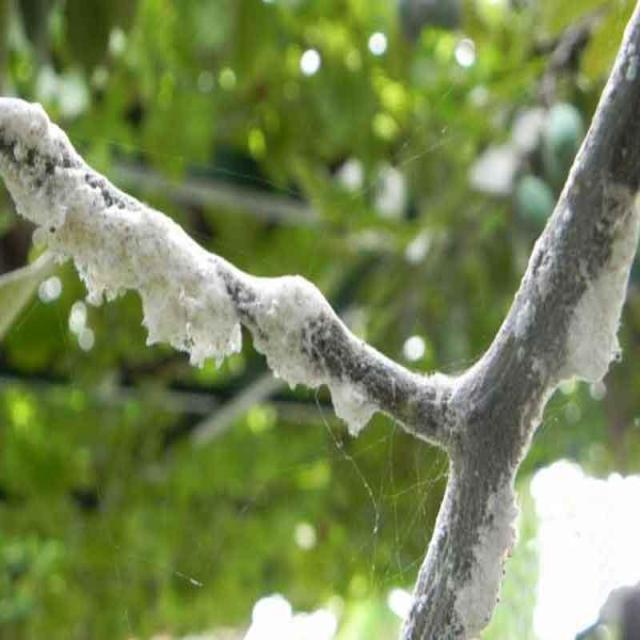Psyllid: (0, 97, 446, 446), (538, 191, 639, 422), (451, 487, 518, 639)
